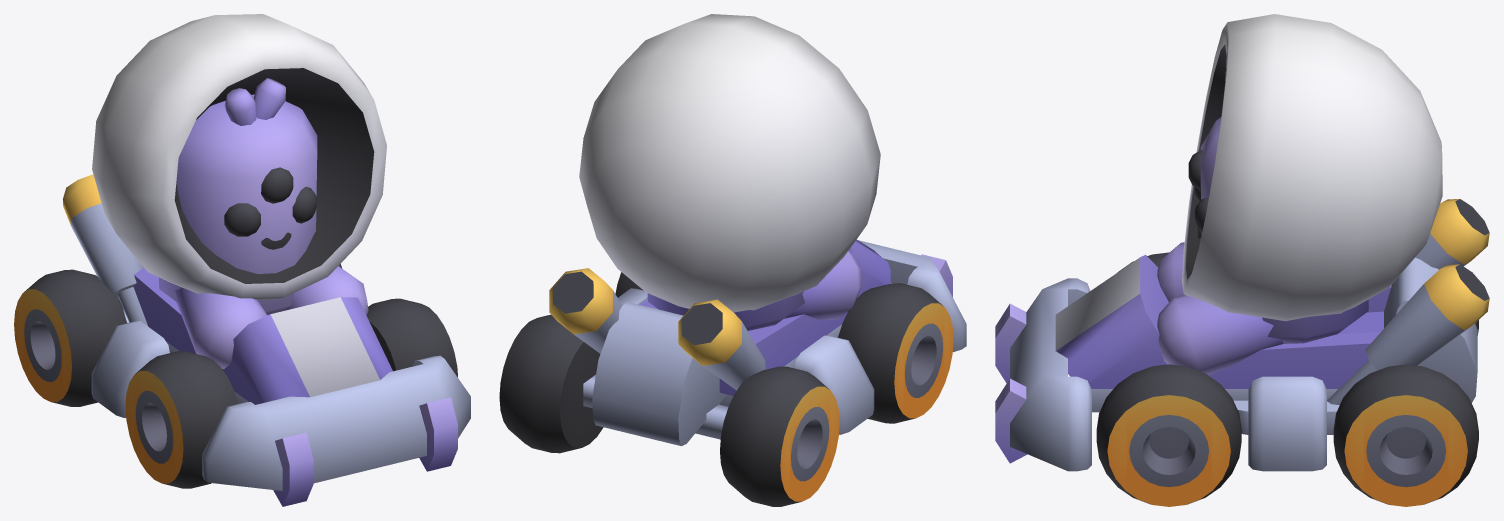
File: Kart.glb
3 views of the same model, side by side, from view 1: azimuth 30°, elevation 25°; view 2: azimuth 150°, elevation 25°; view 3: azimuth 270°, elevation 25° (orthographic). The views are drawn at different scales.
Visible parts, largest first — view 1: character, kart-oobi, wheel-back-right, wheel-front-right, wheel-front-left; view 2: character, kart-oobi, wheel-back-right, wheel-front-right, wheel-back-left; view 3: character, kart-oobi, wheel-front-left, wheel-back-left.
Part boxes in pixels (x1,y1,x2,y2): character: [92, 14, 386, 368]; kart-oobi: [63, 174, 470, 506]; wheel-back-right: [14, 269, 126, 406]; wheel-front-right: [125, 351, 238, 488]; wheel-front-left: [366, 298, 457, 377]; character: [579, 14, 880, 330]; kart-oobi: [549, 239, 966, 446]; wheel-back-right: [720, 366, 839, 506]; wheel-front-right: [838, 283, 953, 423]; wheel-back-left: [499, 314, 603, 453]; character: [1157, 14, 1442, 375]; kart-oobi: [995, 199, 1489, 471]; wheel-front-left: [1096, 364, 1241, 506]; wheel-back-left: [1333, 364, 1478, 506].
Bounding box in the file's own units: 0.6824 × 0.9309 × 1.
1 material, 1 textured.
